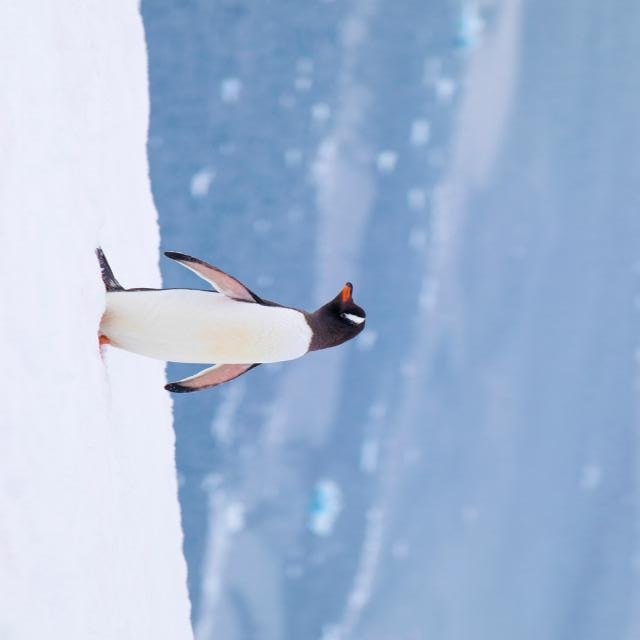penguin: (96, 252, 368, 392)
